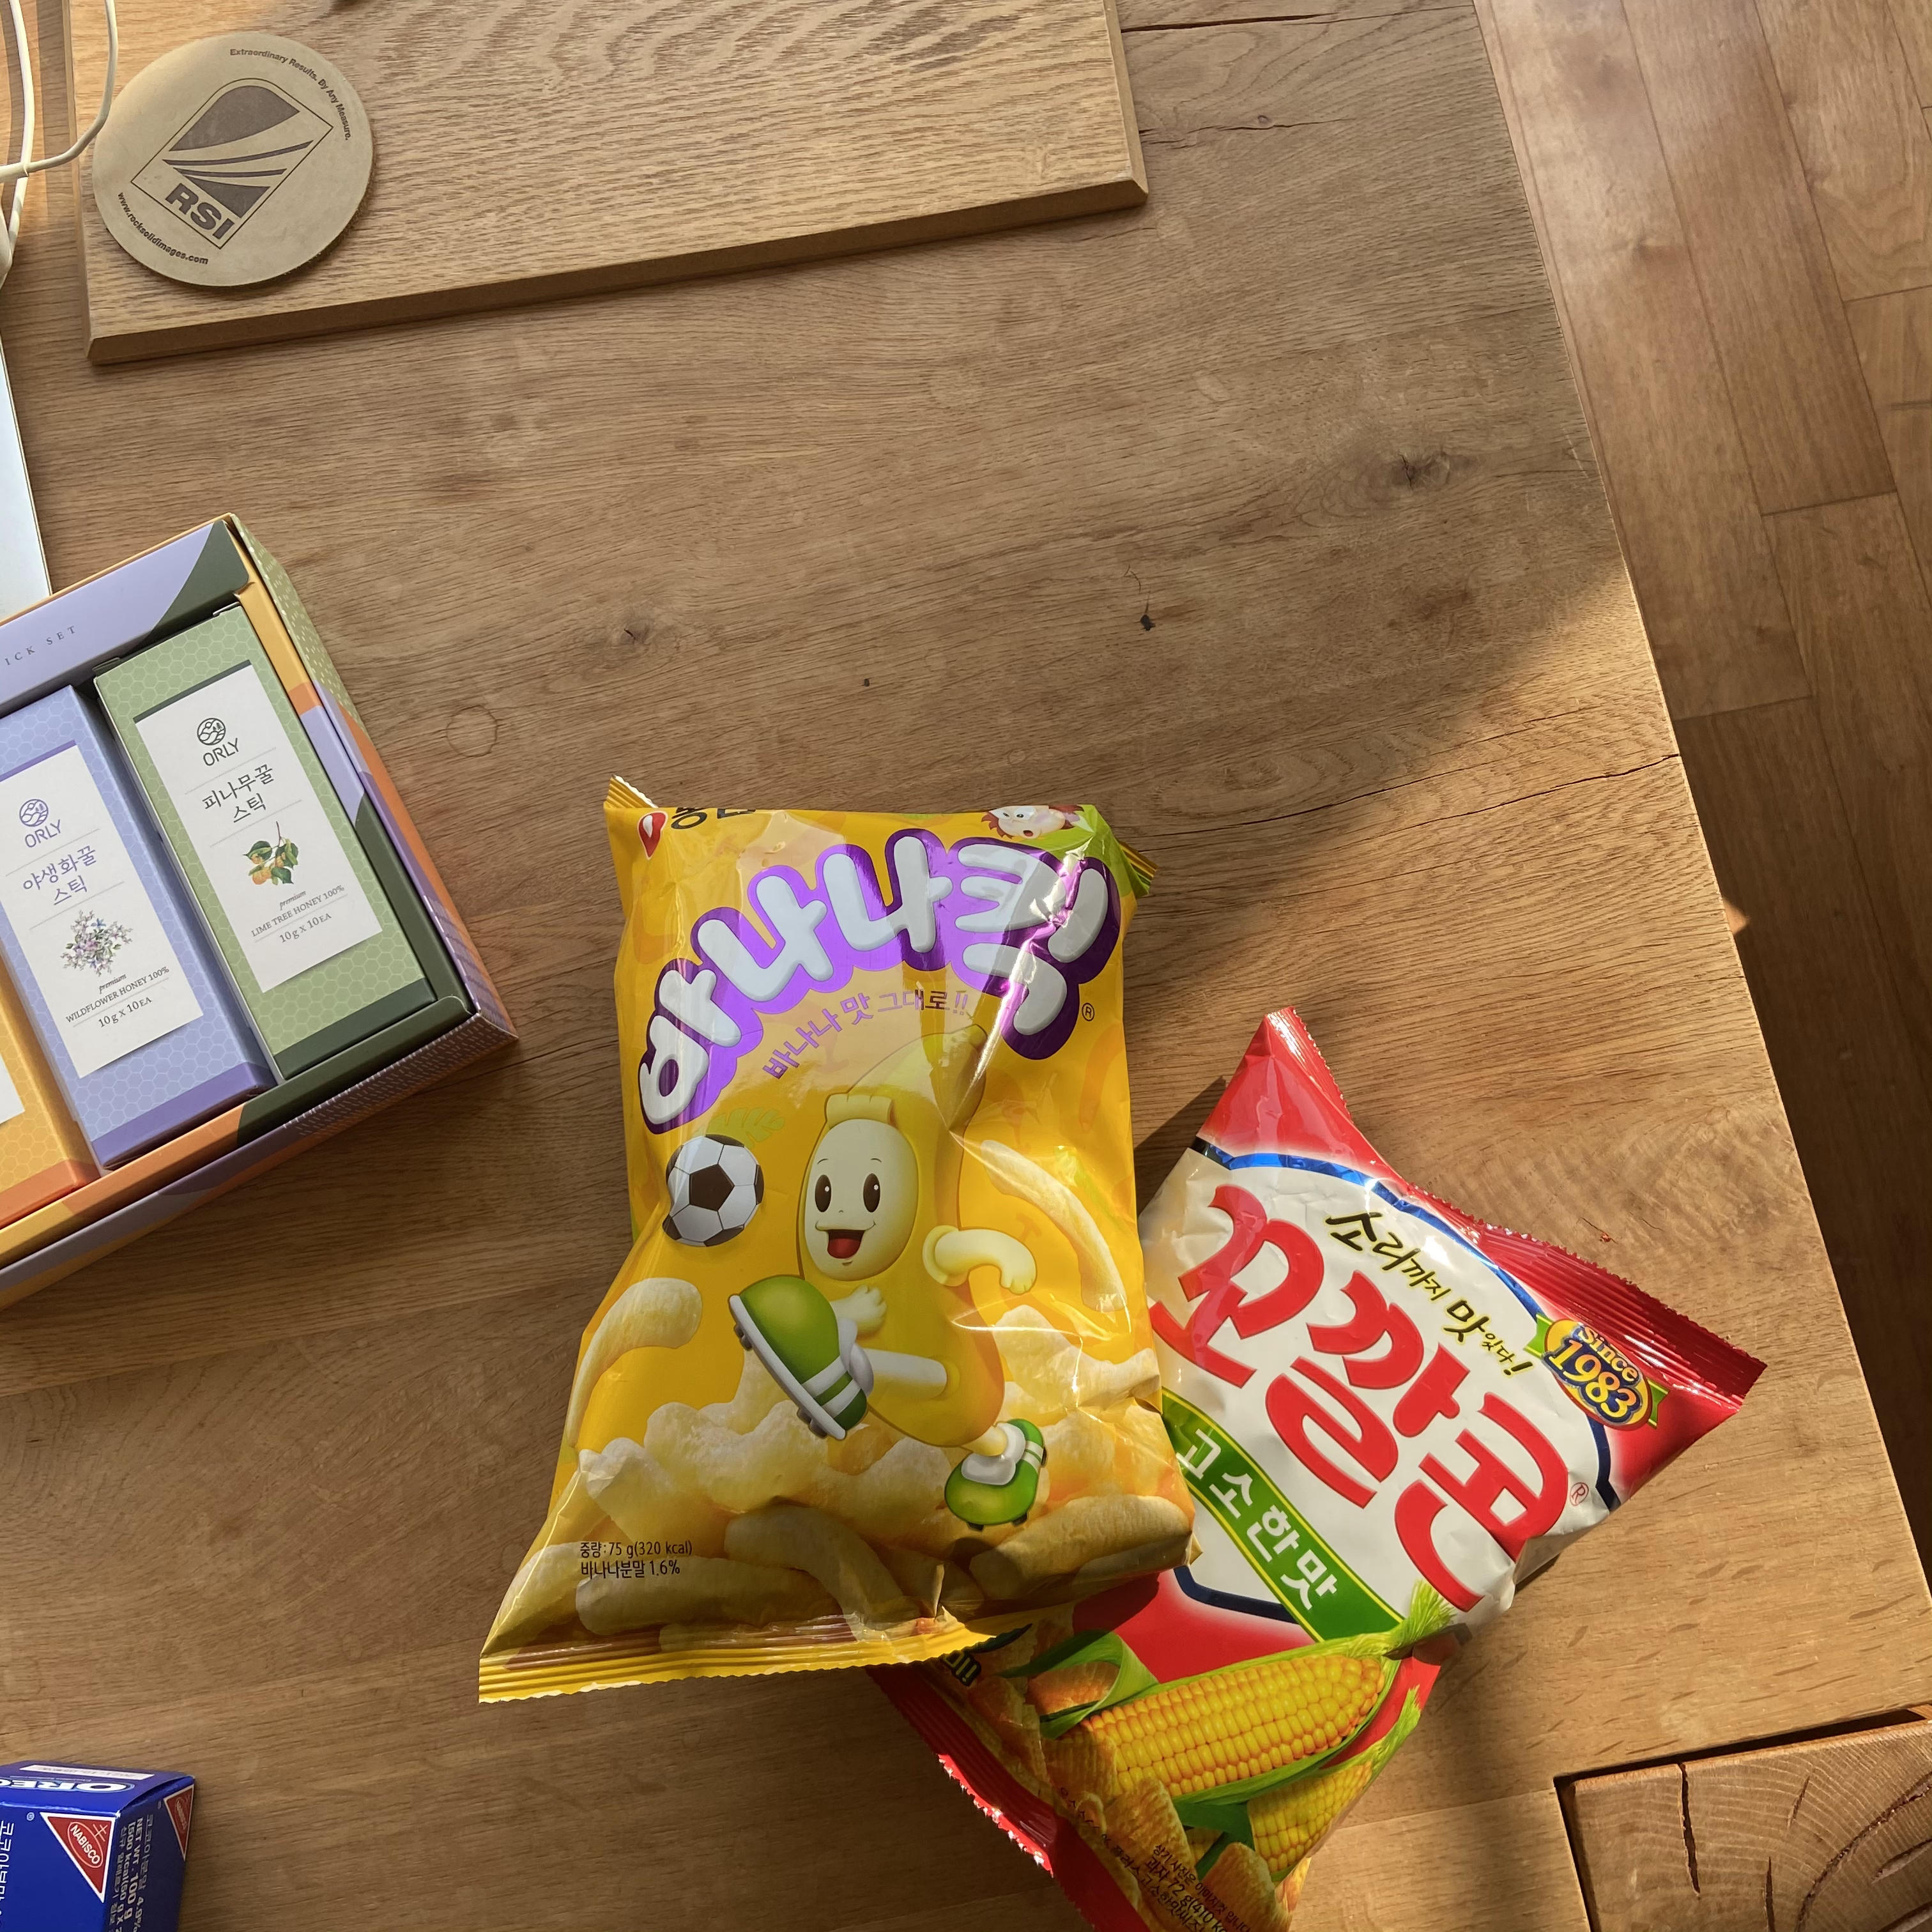banana: (462, 757, 1210, 1727)
ggoggalcon: (798, 994, 1767, 1930)
